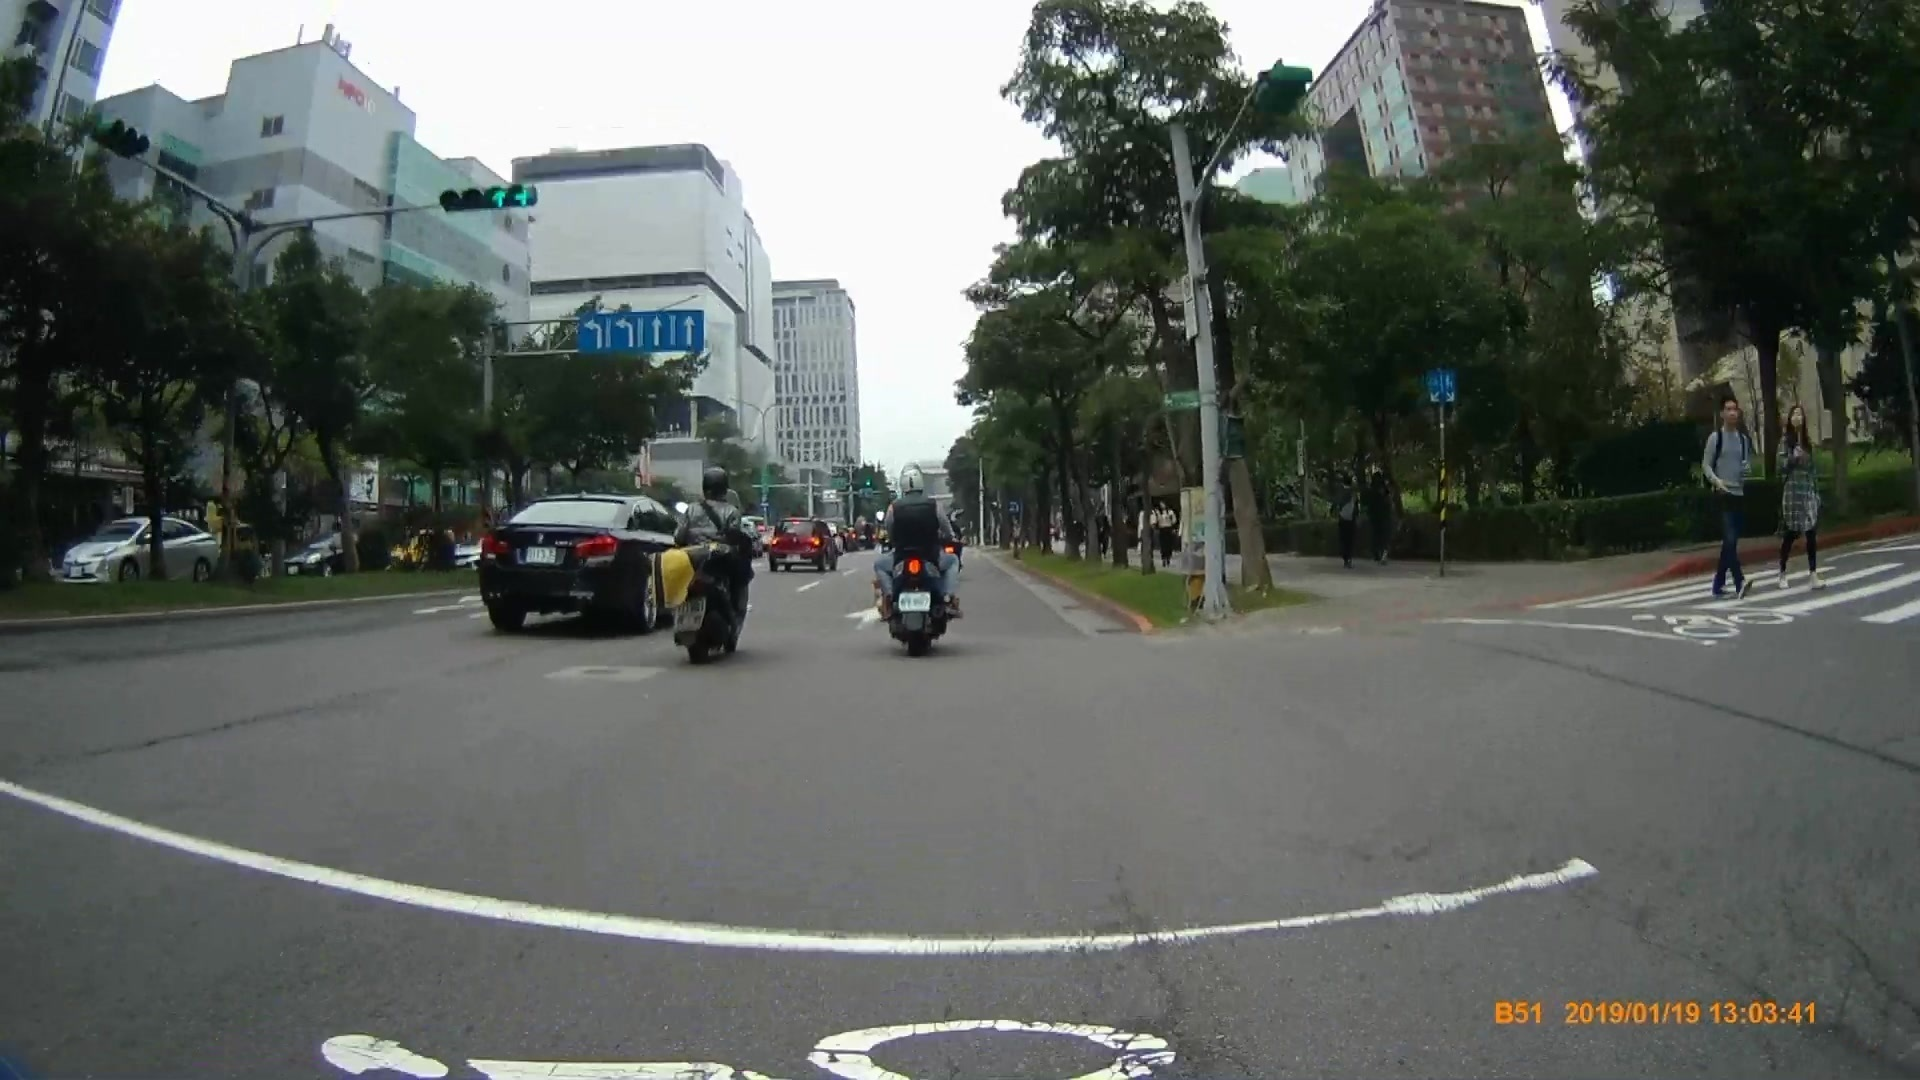License_plate: (897, 588, 933, 611), (525, 544, 558, 564)
